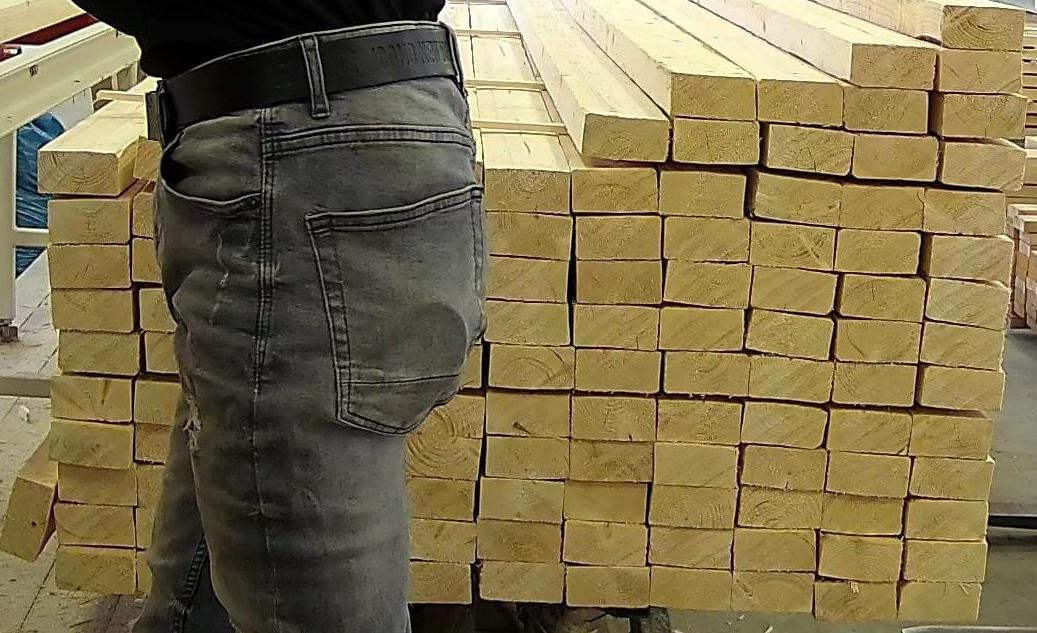Wood-Plank: (132, 135, 239, 196), (750, 170, 844, 225), (133, 379, 236, 428), (0, 474, 56, 561), (578, 110, 670, 162), (763, 123, 853, 175), (763, 124, 853, 175), (131, 194, 230, 240), (136, 465, 237, 510), (747, 309, 835, 360), (131, 237, 226, 284), (133, 424, 236, 467), (848, 40, 934, 90), (139, 288, 232, 334), (661, 168, 748, 217), (942, 0, 1027, 50), (927, 280, 1012, 330), (926, 236, 1016, 283), (853, 132, 941, 180), (840, 273, 928, 321), (944, 141, 1025, 193), (134, 507, 229, 551), (674, 116, 761, 164), (752, 267, 839, 315), (752, 221, 836, 270), (921, 321, 1005, 370), (664, 261, 751, 308), (485, 166, 572, 213), (51, 420, 132, 470), (487, 211, 571, 259), (54, 545, 136, 594), (836, 228, 923, 274), (742, 445, 829, 491), (847, 86, 927, 136), (486, 299, 571, 346), (744, 402, 829, 449), (939, 46, 1025, 92), (924, 187, 1008, 234), (574, 303, 658, 350), (750, 356, 834, 403), (821, 535, 903, 583), (918, 367, 1008, 410), (480, 477, 564, 523), (577, 348, 661, 394), (830, 409, 914, 455), (843, 182, 925, 229), (656, 442, 738, 489), (912, 413, 994, 460), (564, 522, 649, 567), (836, 319, 921, 364), (50, 375, 131, 422), (577, 260, 663, 304), (136, 551, 222, 595), (491, 345, 575, 390), (829, 453, 913, 498), (145, 332, 235, 374), (57, 330, 139, 376), (666, 352, 751, 396), (757, 80, 840, 125), (46, 244, 130, 288), (573, 397, 657, 441), (649, 487, 737, 529), (661, 306, 745, 350), (666, 216, 748, 261), (53, 502, 133, 548), (397, 518, 477, 564), (39, 150, 117, 197), (577, 216, 662, 259), (911, 457, 996, 500), (51, 288, 134, 332), (660, 401, 743, 445), (907, 540, 990, 584), (944, 96, 1027, 140), (47, 198, 130, 242), (673, 73, 754, 118), (485, 437, 569, 480), (573, 168, 655, 212), (652, 566, 732, 611), (405, 341, 483, 387), (487, 394, 570, 437), (565, 481, 648, 524), (740, 486, 823, 529), (906, 499, 989, 542), (487, 257, 568, 301), (401, 435, 480, 480), (900, 582, 984, 624), (836, 364, 919, 406), (480, 562, 565, 603), (478, 521, 562, 562), (570, 442, 654, 483), (566, 568, 650, 609), (649, 529, 733, 570), (401, 476, 475, 522), (736, 530, 818, 571), (56, 465, 136, 507), (825, 494, 904, 536), (405, 393, 484, 435), (732, 573, 816, 612), (396, 561, 470, 605), (817, 581, 898, 621)
